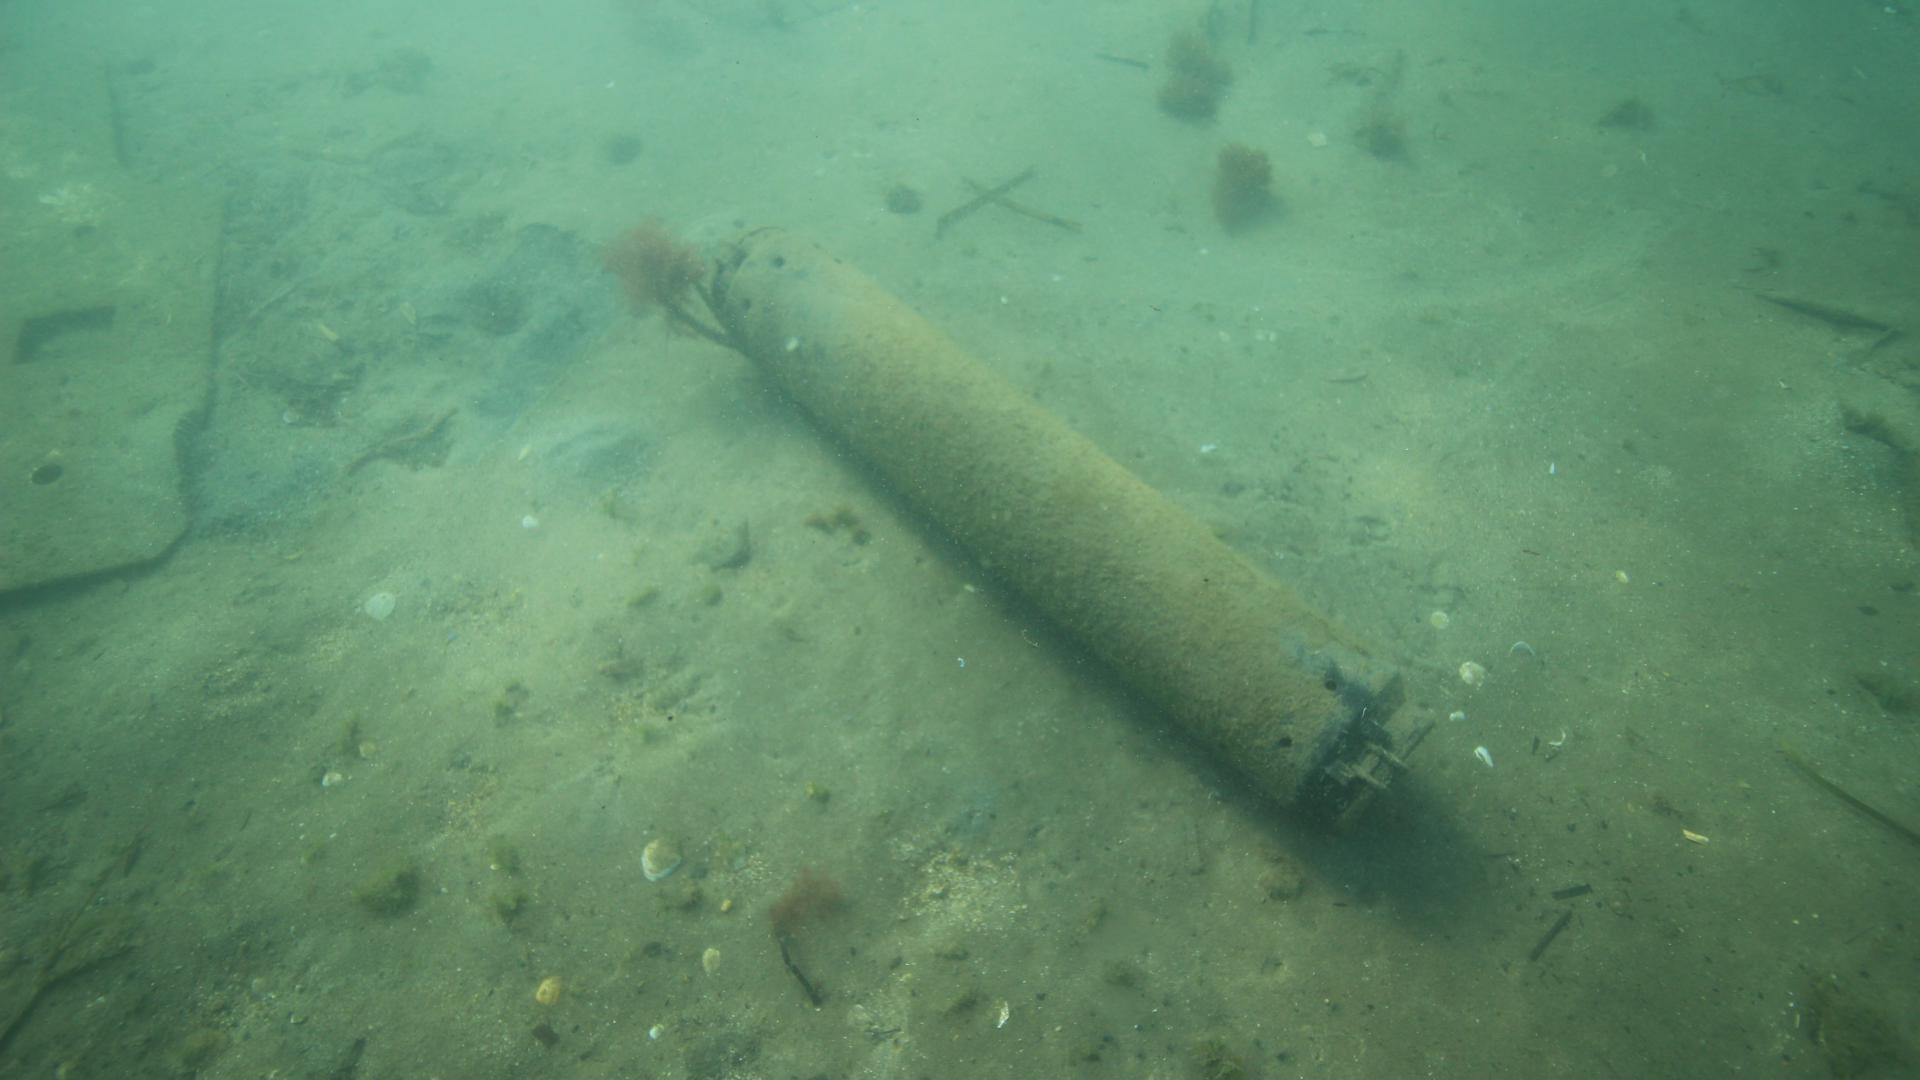eel fish trap: (704, 222, 1440, 832)
